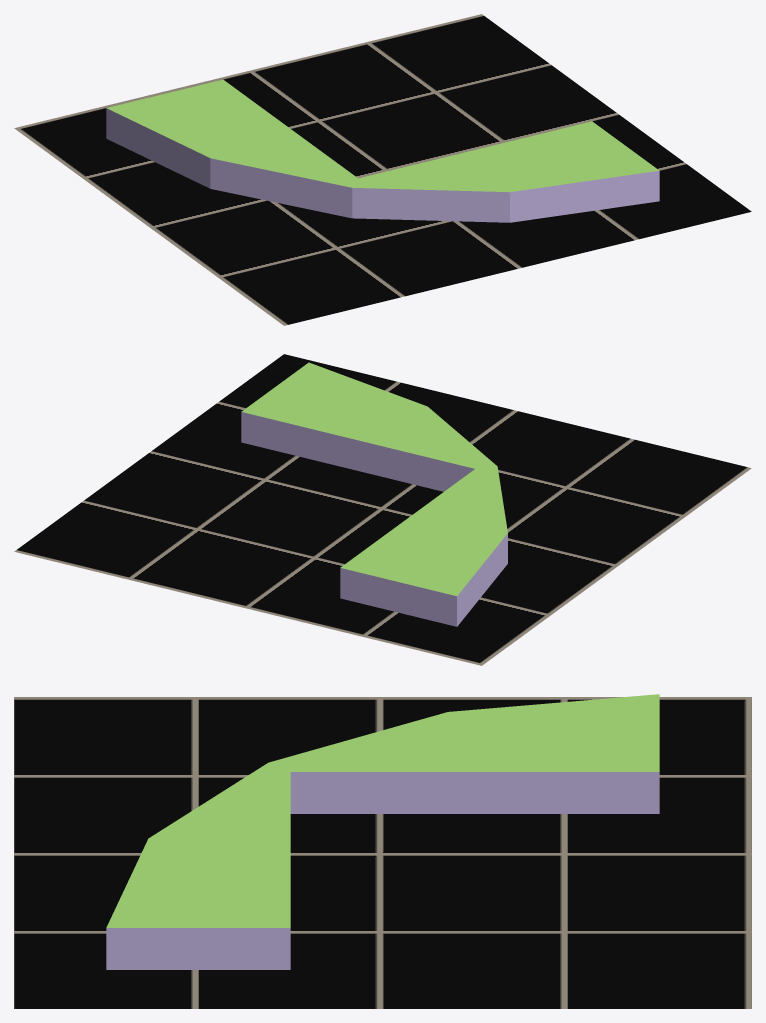
The model's file is Tiered_Grass_Curve_Outer_3x3.glb.
The picture shows the model from 3 angles, top to bottom: view 1: azimuth 30°, elevation 25°; view 2: azimuth 150°, elevation 25°; view 3: azimuth 270°, elevation 25°; orthographic projection. The views are drawn at different scales.
Visible parts, largest first — view 1: Floor, Tiered_Grass_Curve_Outer_3x3; view 2: Floor, Tiered_Grass_Curve_Outer_3x3; view 3: Floor, Tiered_Grass_Curve_Outer_3x3.
Boxes of the visible parts, x1,y1,x2,y2 form: Floor: (14, 14, 751, 325); Tiered_Grass_Curve_Outer_3x3: (106, 79, 659, 222); Floor: (14, 354, 751, 665); Tiered_Grass_Curve_Outer_3x3: (241, 362, 507, 626); Floor: (14, 697, 751, 1008); Tiered_Grass_Curve_Outer_3x3: (106, 694, 659, 969).
Size of the model in its own units: 400 by 25 by 400.
Materials: 4 (1 with a texture image).
